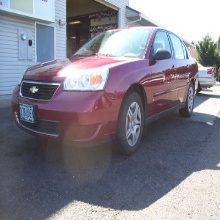no damage: (12, 26, 197, 153), (198, 62, 216, 88)
